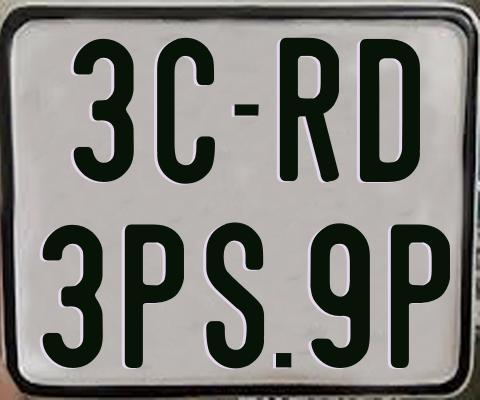3: (42, 225, 108, 369), (74, 38, 138, 182)
9: (310, 221, 372, 367)
C: (156, 35, 218, 183)
D: (359, 37, 421, 181)
P: (122, 223, 183, 368), (388, 223, 449, 367)
R: (280, 38, 341, 184)
S: (203, 222, 267, 374)
